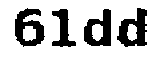1: (49, 7, 78, 51)
6: (11, 4, 47, 52)
d: (116, 6, 153, 53), (80, 6, 115, 52)
